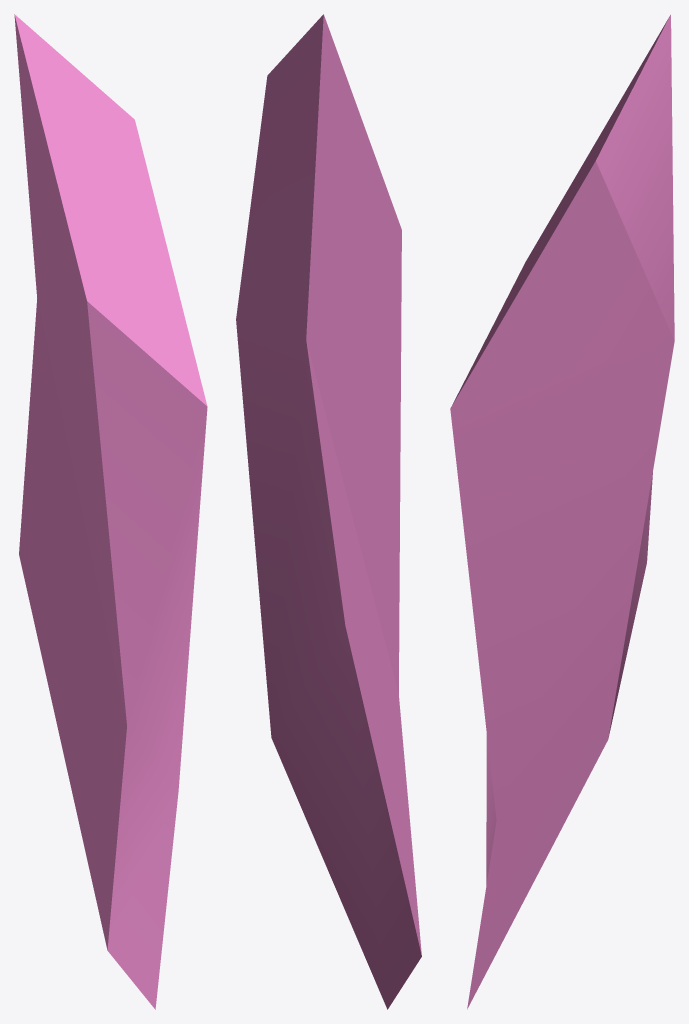
File: FloatingRock_4.fbx
3 renders of one model, left to right at view 1: azimuth 30°, elevation 25°; view 2: azimuth 150°, elevation 25°; view 3: azimuth 270°, elevation 25°, orthographic. The views are drawn at different scales.
Parts seen in each view (by area): view 1: FloatingRock_4; view 2: FloatingRock_4; view 3: FloatingRock_4.
Part boxes in pixels (x1,y1,x2,y2): FloatingRock_4: [14, 14, 207, 1009]; FloatingRock_4: [236, 14, 421, 1009]; FloatingRock_4: [450, 14, 674, 1009].
Bounding box in the file's own units: 74.84 × 148 × 710.
